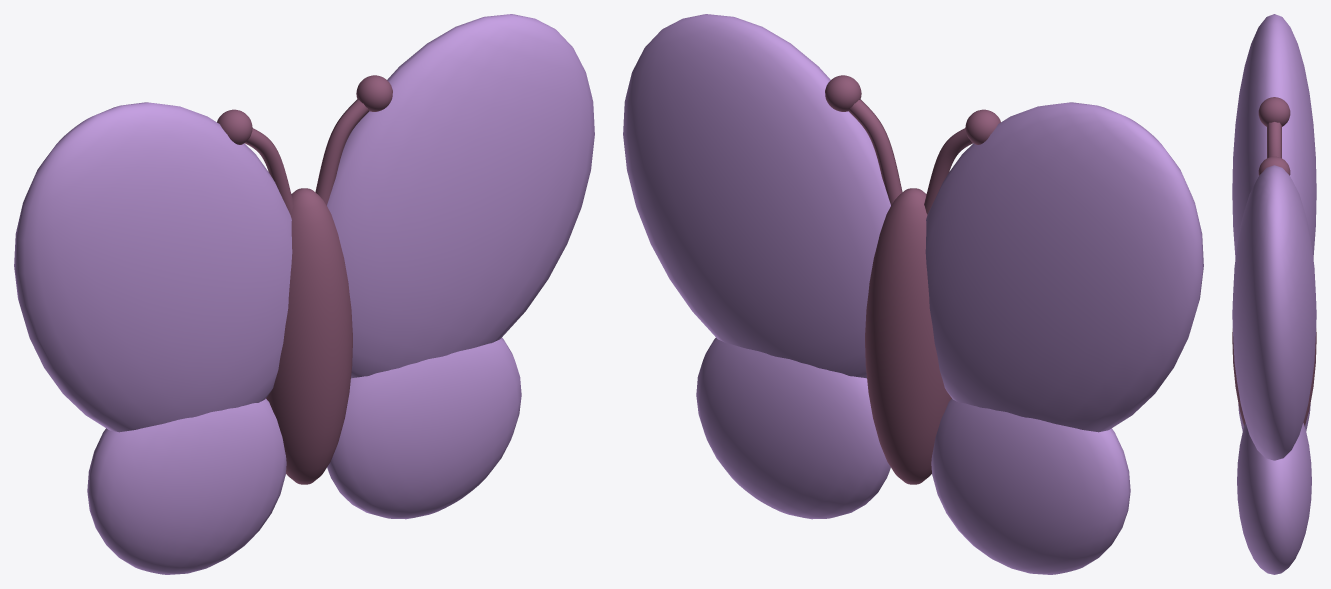
Rendered from butterfly.glb.
The picture shows the model from 3 angles, left to right: view 1: azimuth 30°, elevation 25°; view 2: azimuth 150°, elevation 25°; view 3: azimuth 270°, elevation 25°; orthographic projection. The views are drawn at different scales.
Visible parts, largest first — view 1: Butterfly_upper_-1, Butterfly_upper_1, Butterfly_lower_-1, Butterfly_lower_1, Butterfly_body, Butterfly_antenna_1, Butterfly_antenna_-1, Butterfly_antenna_tip_1, Butterfly_antenna_tip_-1; view 2: Butterfly_upper_-1, Butterfly_upper_1, Butterfly_lower_-1, Butterfly_lower_1, Butterfly_body, Butterfly_antenna_1, Butterfly_antenna_-1, Butterfly_antenna_tip_1, Butterfly_antenna_tip_-1; view 3: Butterfly_upper_1, Butterfly_upper_-1, Butterfly_lower_1, Butterfly_antenna_tip_-1, Butterfly_antenna_-1, Butterfly_body, Butterfly_antenna_tip_1.
Boxes of the visible parts, x1,y1,x2,y2 form: Butterfly_upper_-1: (14,102,292,432); Butterfly_upper_1: (327,14,594,378); Butterfly_lower_-1: (87,398,286,574); Butterfly_lower_1: (327,338,521,519); Butterfly_body: (266,188,352,484); Butterfly_antenna_1: (315,99,369,205); Butterfly_antenna_-1: (245,128,293,214); Butterfly_antenna_tip_1: (356,75,392,111); Butterfly_antenna_tip_-1: (217,109,252,144); Butterfly_upper_-1: (925,102,1203,432); Butterfly_upper_1: (623,14,890,378); Butterfly_lower_-1: (931,398,1130,574); Butterfly_lower_1: (696,338,890,519); Butterfly_body: (865,188,951,484); Butterfly_antenna_1: (848,99,902,205); Butterfly_antenna_-1: (924,128,972,214); Butterfly_antenna_tip_1: (825,75,861,111); Butterfly_antenna_tip_-1: (965,109,1000,144); Butterfly_upper_1: (1232,165,1316,460); Butterfly_upper_-1: (1232,14,1316,259); Butterfly_lower_1: (1237,423,1311,574); Butterfly_antenna_tip_-1: (1258,97,1290,126); Butterfly_antenna_-1: (1267,122,1281,158); Butterfly_body: (1232,328,1316,426); Butterfly_antenna_tip_1: (1258,156,1290,175).
Bounding box in the file's own units: 0.6155 × 0.4905 × 0.09.
